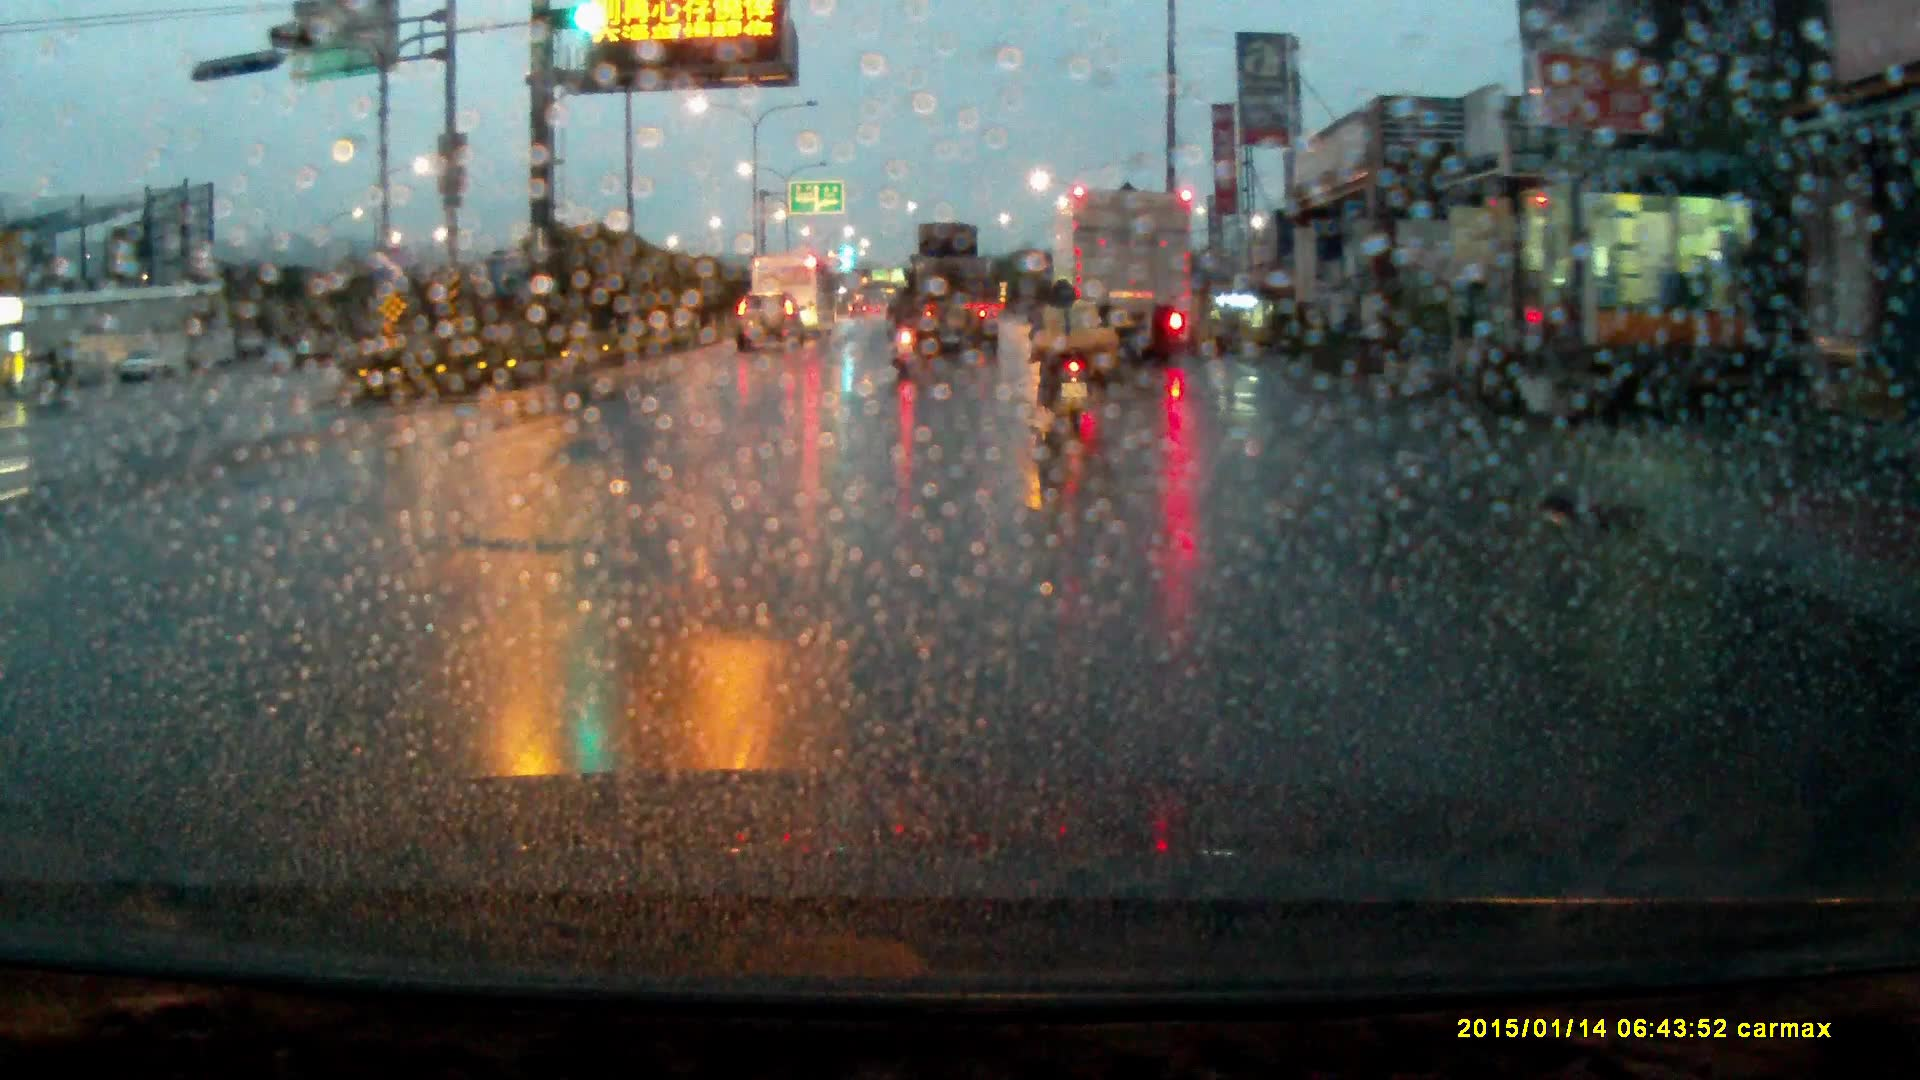rider: (1027, 267, 1109, 430), (890, 268, 929, 366)
vehicle: (1052, 189, 1199, 363), (899, 218, 1000, 356), (765, 244, 840, 327), (737, 285, 809, 351)
